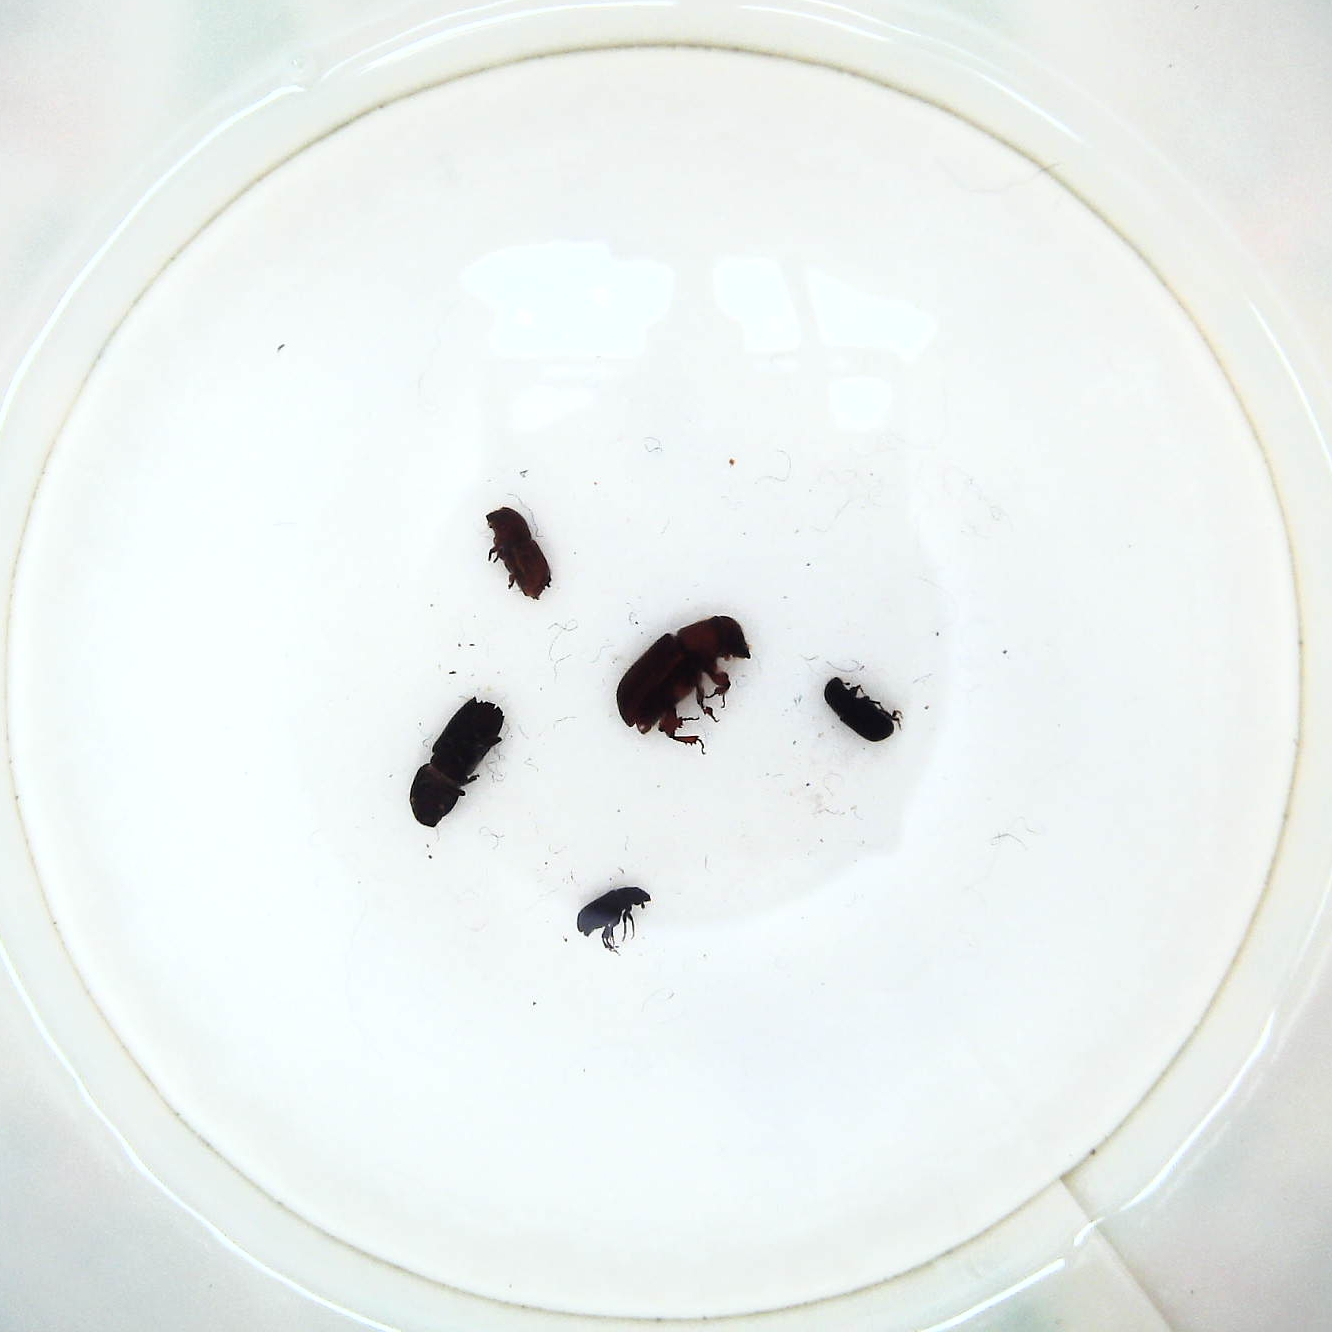Boerner: (405, 695, 512, 829)
Leconte: (610, 612, 761, 751)
armandi: (817, 670, 898, 751)
coleoptera: (571, 887, 651, 960)
linnaeus: (478, 503, 554, 604)
